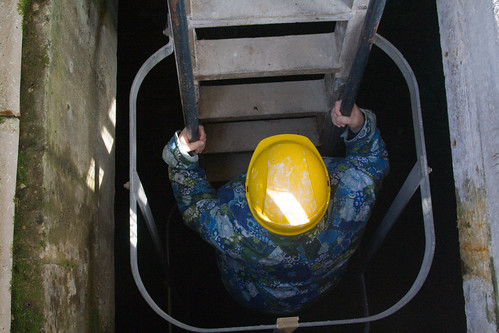person hardhat: (155, 103, 401, 313)
